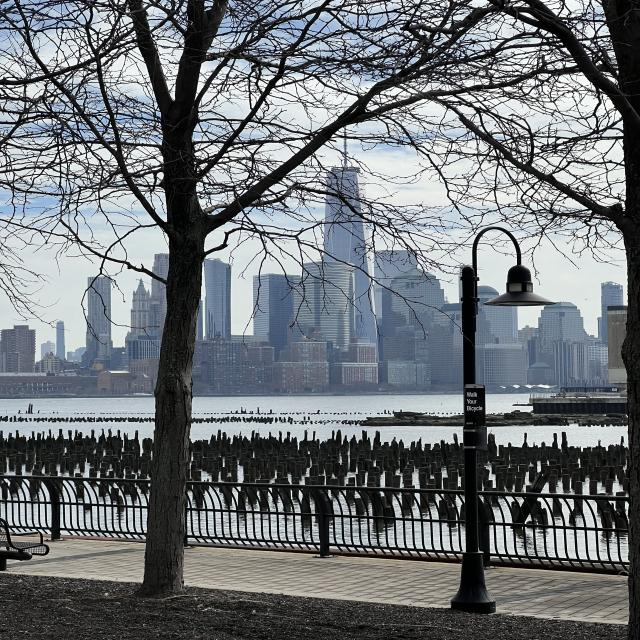WTC: (324, 135, 364, 262)
